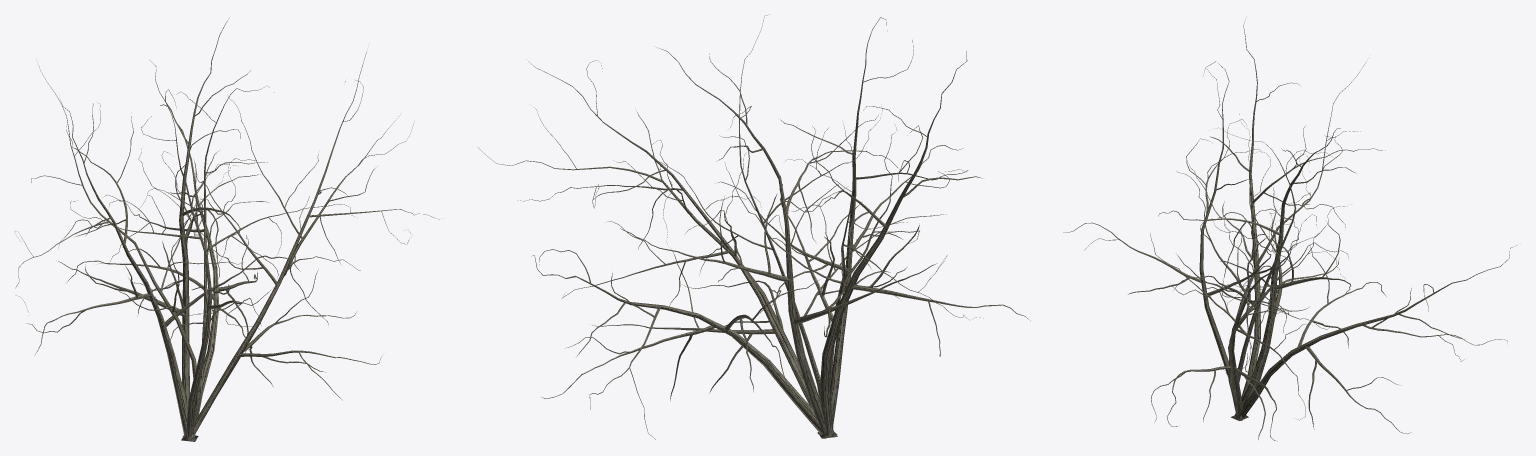
File: tree(1).glb
3 renders of one model, left to right at view 1: azimuth 30°, elevation 25°; view 2: azimuth 150°, elevation 25°; view 3: azimuth 270°, elevation 25°, orthographic. The views are drawn at different scales.
Visible parts, largest first — view 1: Tree; view 2: Tree; view 3: Tree.
Boxes of the visible parts, box(x1,y1,x2,y2) form: Tree: box(15, 17, 439, 441); Tree: box(478, 15, 1030, 439); Tree: box(1063, 20, 1516, 441).
Bounding box in the file's own units: 28.45 × 23.47 × 28.27.
Materials: 1 (1 with a texture image).
